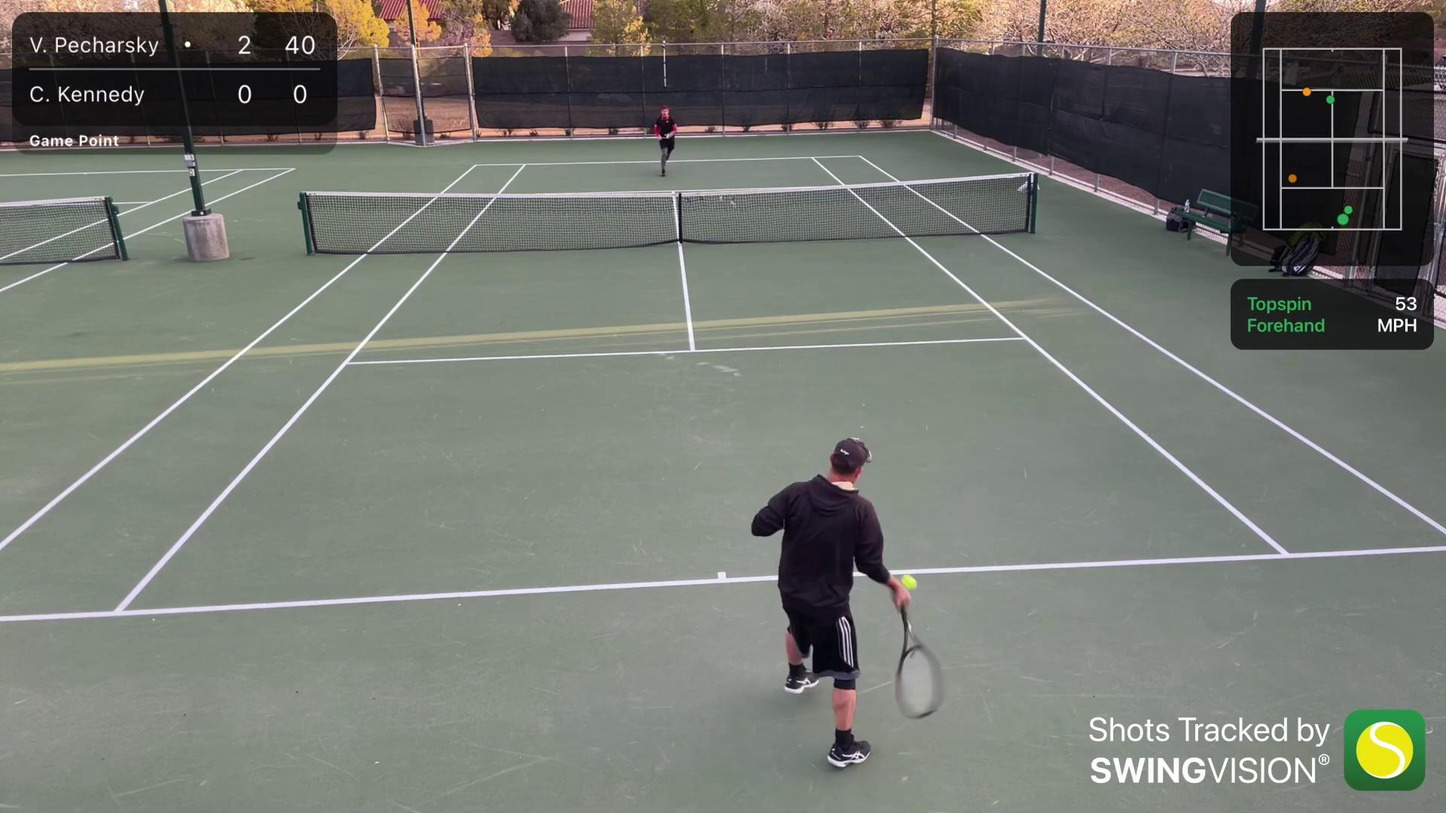ball: (899, 571, 921, 591)
